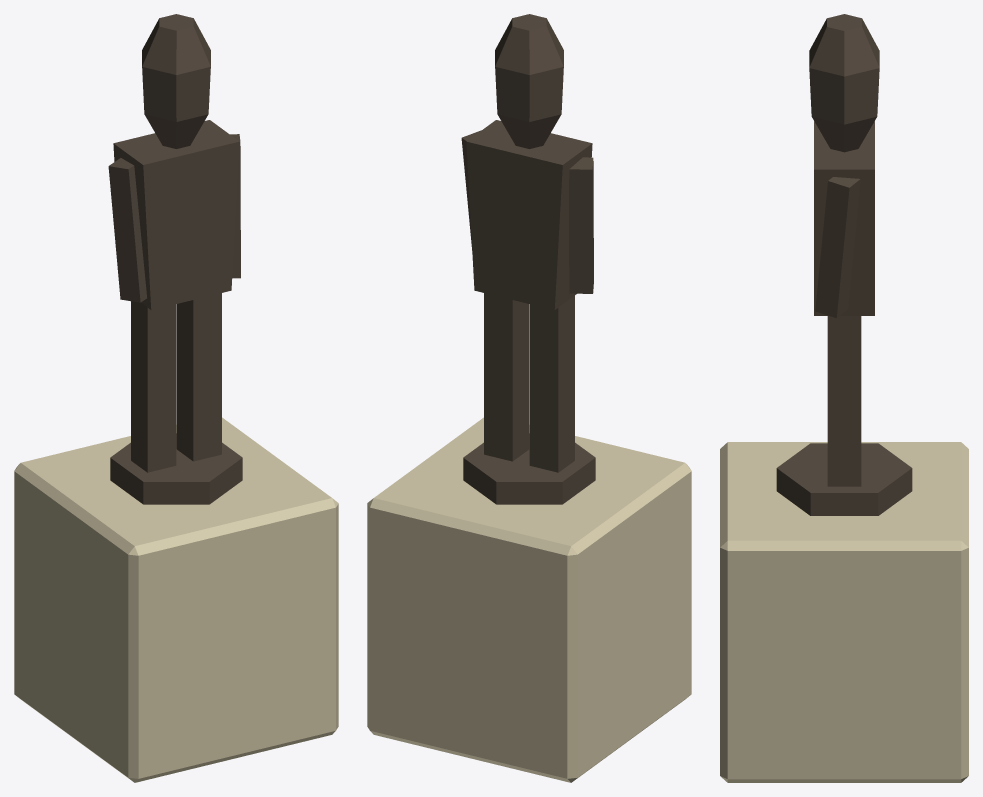
File: sculpture-28.glb
3 renders of one model, left to right at view 1: azimuth 30°, elevation 25°; view 2: azimuth 150°, elevation 25°; view 3: azimuth 270°, elevation 25°, orthographic. The views are drawn at different scales.
Parts seen in each view (by area): view 1: sculpture_28; view 2: sculpture_28; view 3: sculpture_28.
Boxes of the visible parts, x1,y1,x2,y2 form: sculpture_28: (14, 14, 338, 782); sculpture_28: (367, 14, 691, 782); sculpture_28: (720, 14, 968, 782).
Size of the model in its own units: 0.1935 by 0.6102 by 0.1935.
